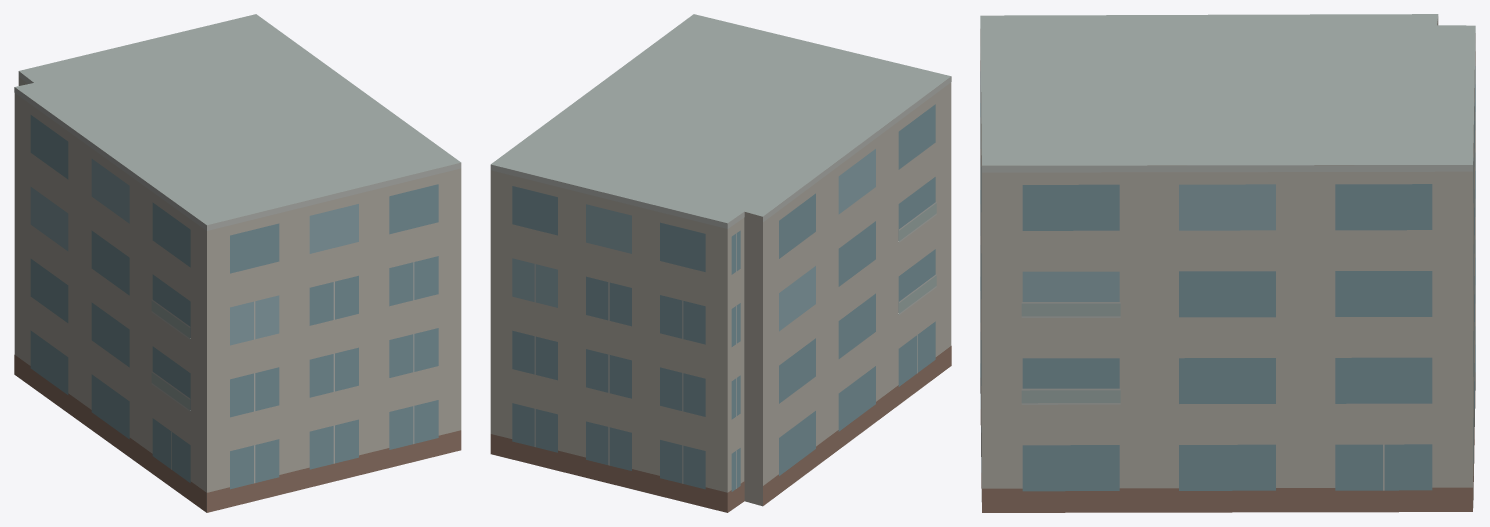
File: survey-upis-32717097.glb
The picture shows the model from 3 angles, left to right: view 1: azimuth 30°, elevation 25°; view 2: azimuth 150°, elevation 25°; view 3: azimuth 270°, elevation 25°; orthographic projection. The views are drawn at different scales.
Visible parts, largest first — view 1: survey-upis-32717097.tmp; view 2: survey-upis-32717097.tmp; view 3: survey-upis-32717097.tmp.
Boxes of the visible parts, box(x1,y1,x2,y2) form: survey-upis-32717097.tmp: box(14, 14, 461, 512); survey-upis-32717097.tmp: box(490, 14, 951, 512); survey-upis-32717097.tmp: box(980, 14, 1475, 512).
Bounding box in the file's own units: 11.48 × 12.2 × 15.79.
